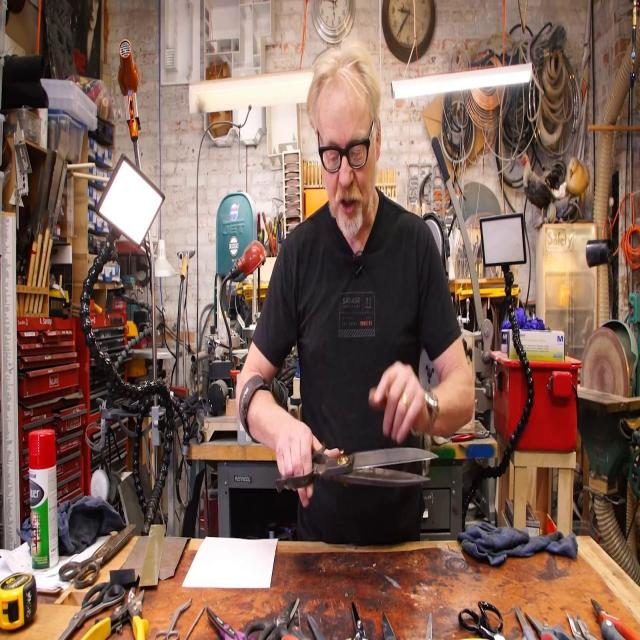scissor: (275, 441, 439, 493), (58, 524, 136, 590), (57, 580, 124, 640), (244, 596, 299, 640), (458, 599, 504, 640), (155, 598, 192, 640), (526, 610, 571, 640)
